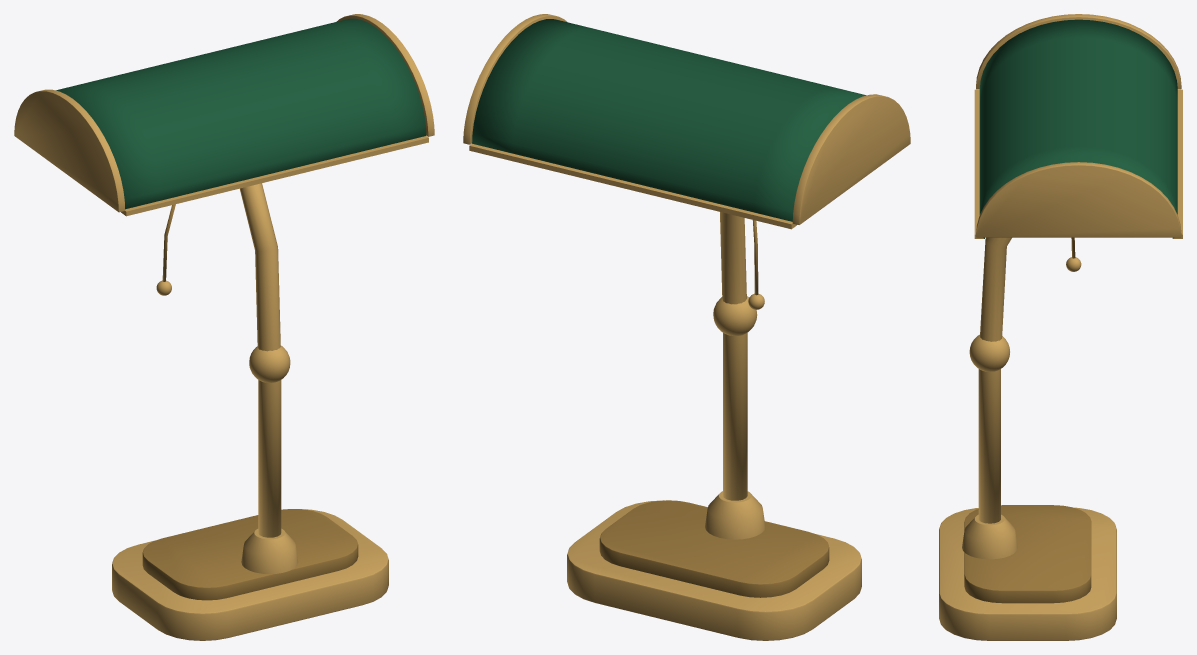
File: Lamp.fbx
The picture shows the model from 3 angles, left to right: view 1: azimuth 30°, elevation 25°; view 2: azimuth 150°, elevation 25°; view 3: azimuth 270°, elevation 25°; orthographic projection. The views are drawn at different scales.
Visible parts, largest first — view 1: LampShade, Lamp; view 2: LampShade, Lamp; view 3: LampShade, Lamp.
Boxes of the visible parts, x1,y1,x2,y2 form: LampShade: (14,14,434,216); Lamp: (112,183,388,640); LampShade: (463,14,910,229); Lamp: (567,212,861,640); LampShade: (974,14,1182,238); Lamp: (939,237,1116,640).
Bounding box in the file's own units: 0.282 × 0.4332 × 0.192.
